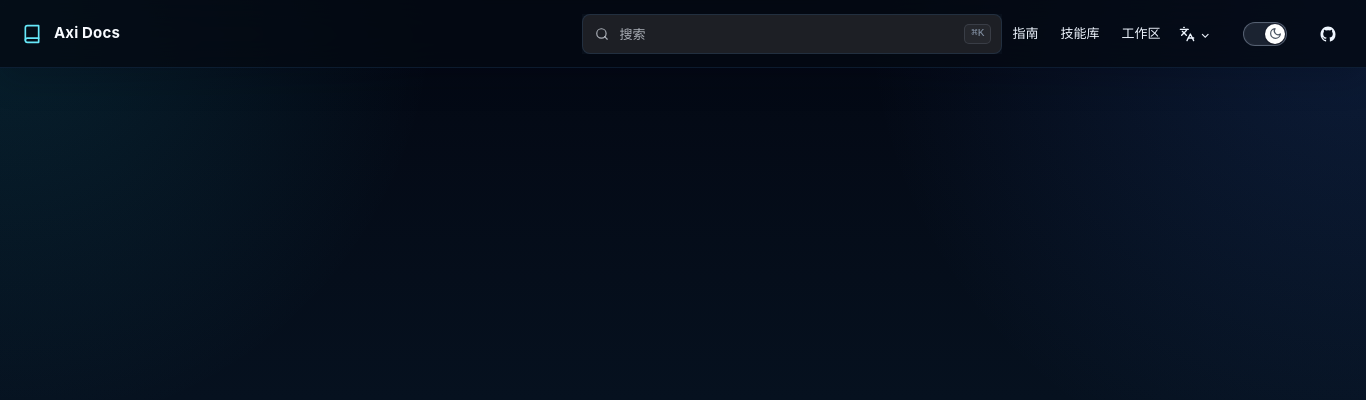
Header › toggles the docs theme mode
This screenshot has width=1366, height=400.
What coordinates should you click on to do the following:
click the switch named "切换浅色样式"
I would click on:
 (1265, 34)
Its box is [1243,22,1287,46].
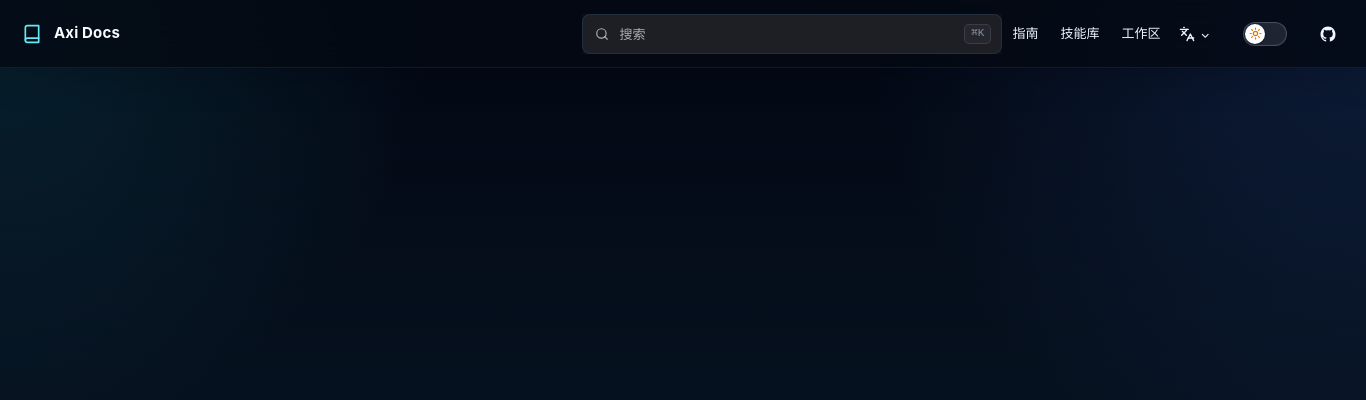
Check: the icon with test id "theme-icon" is shown, box [1248,27,1262,40]
